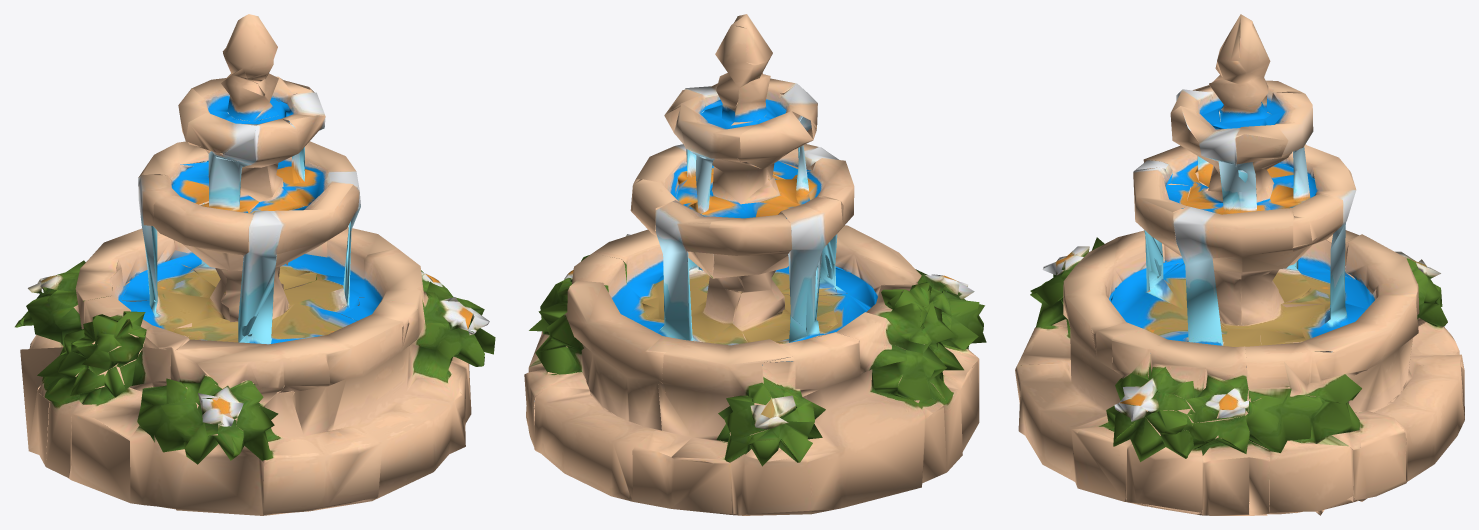
The model's file is M-5_06_fountain.glb.
The picture shows the model from 3 angles, left to right: view 1: azimuth 30°, elevation 25°; view 2: azimuth 150°, elevation 25°; view 3: azimuth 270°, elevation 25°; orthographic projection.
Parts seen in each view (by area): view 1: fountain; view 2: fountain; view 3: fountain.
Boxes of the visible parts, box(x1,y1,x2,y2) form: fountain: box(15, 14, 495, 515); fountain: box(524, 14, 986, 515); fountain: box(1015, 14, 1464, 515).
Bounding box in the file's own units: 2.71 × 2.66 × 2.62.
Materials: 1 (1 with a texture image).
